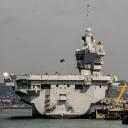Portanaves: (5, 5, 121, 121)
